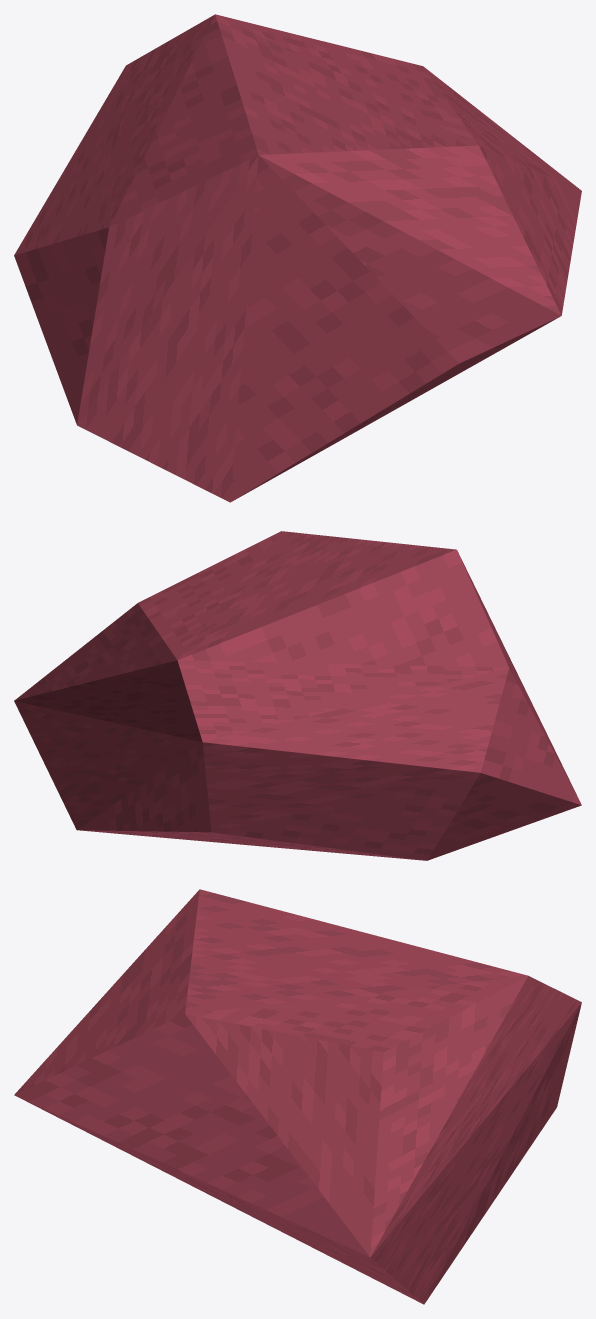
Rendered from f_beanbag.glb.
The picture shows the model from 3 angles, top to bottom: view 1: azimuth 30°, elevation 25°; view 2: azimuth 150°, elevation 25°; view 3: azimuth 270°, elevation 25°; orthographic projection. The views are drawn at different scales.
Visible parts, largest first — view 1: block_beanbag; view 2: block_beanbag; view 3: block_beanbag.
Part boxes in pixels (bbox=[...]): block_beanbag: bbox=[14, 14, 581, 502]; block_beanbag: bbox=[14, 531, 581, 860]; block_beanbag: bbox=[14, 889, 581, 1304].
Bounding box in the file's own units: 0.7008 × 0.3577 × 0.6628.
Materials: 1 (1 with a texture image).
